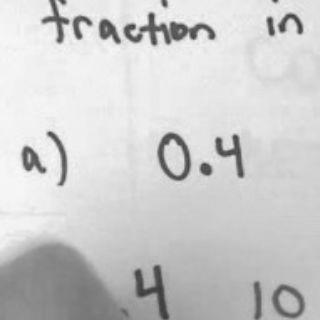.: (196, 159, 213, 179)
0: (154, 129, 192, 182), (271, 283, 308, 319)
1: (250, 279, 264, 318)
4: (131, 262, 173, 320), (213, 132, 249, 179)
